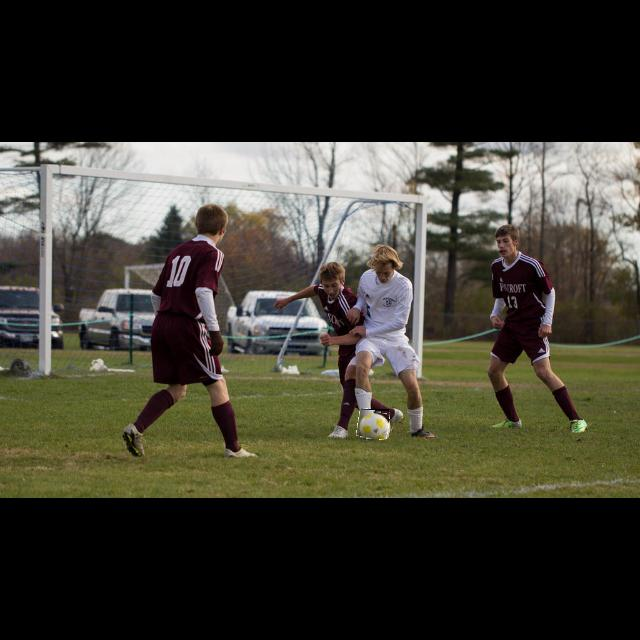Football: (357, 409, 389, 439)
